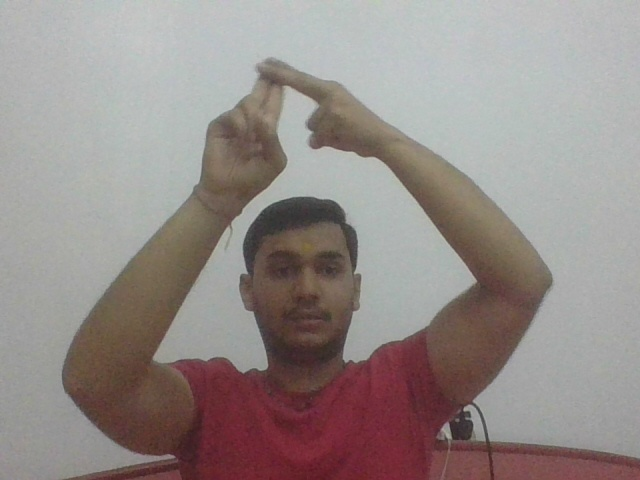F: (191, 55, 397, 199)
